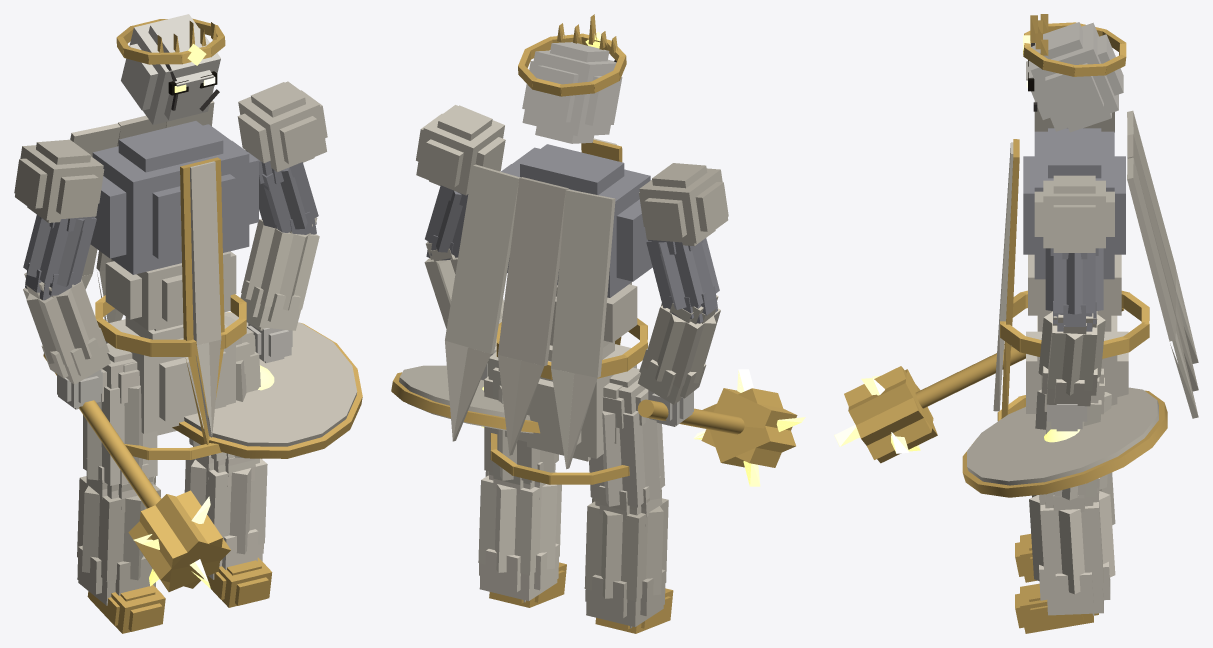
3 renders of one model, left to right at view 1: azimuth 30°, elevation 25°; view 2: azimuth 150°, elevation 25°; view 3: azimuth 270°, elevation 25°, orthographic.
Parts seen in each view (by area): view 1: FallenAcolyte; view 2: FallenAcolyte; view 3: FallenAcolyte.
Part boxes in pixels (bbox=[...]): FallenAcolyte: bbox=[14, 14, 362, 633]; FallenAcolyte: bbox=[391, 14, 805, 633]; FallenAcolyte: bbox=[834, 14, 1198, 633].
Size of the model in its own units: 0.8009 by 1.43 by 0.8078.
